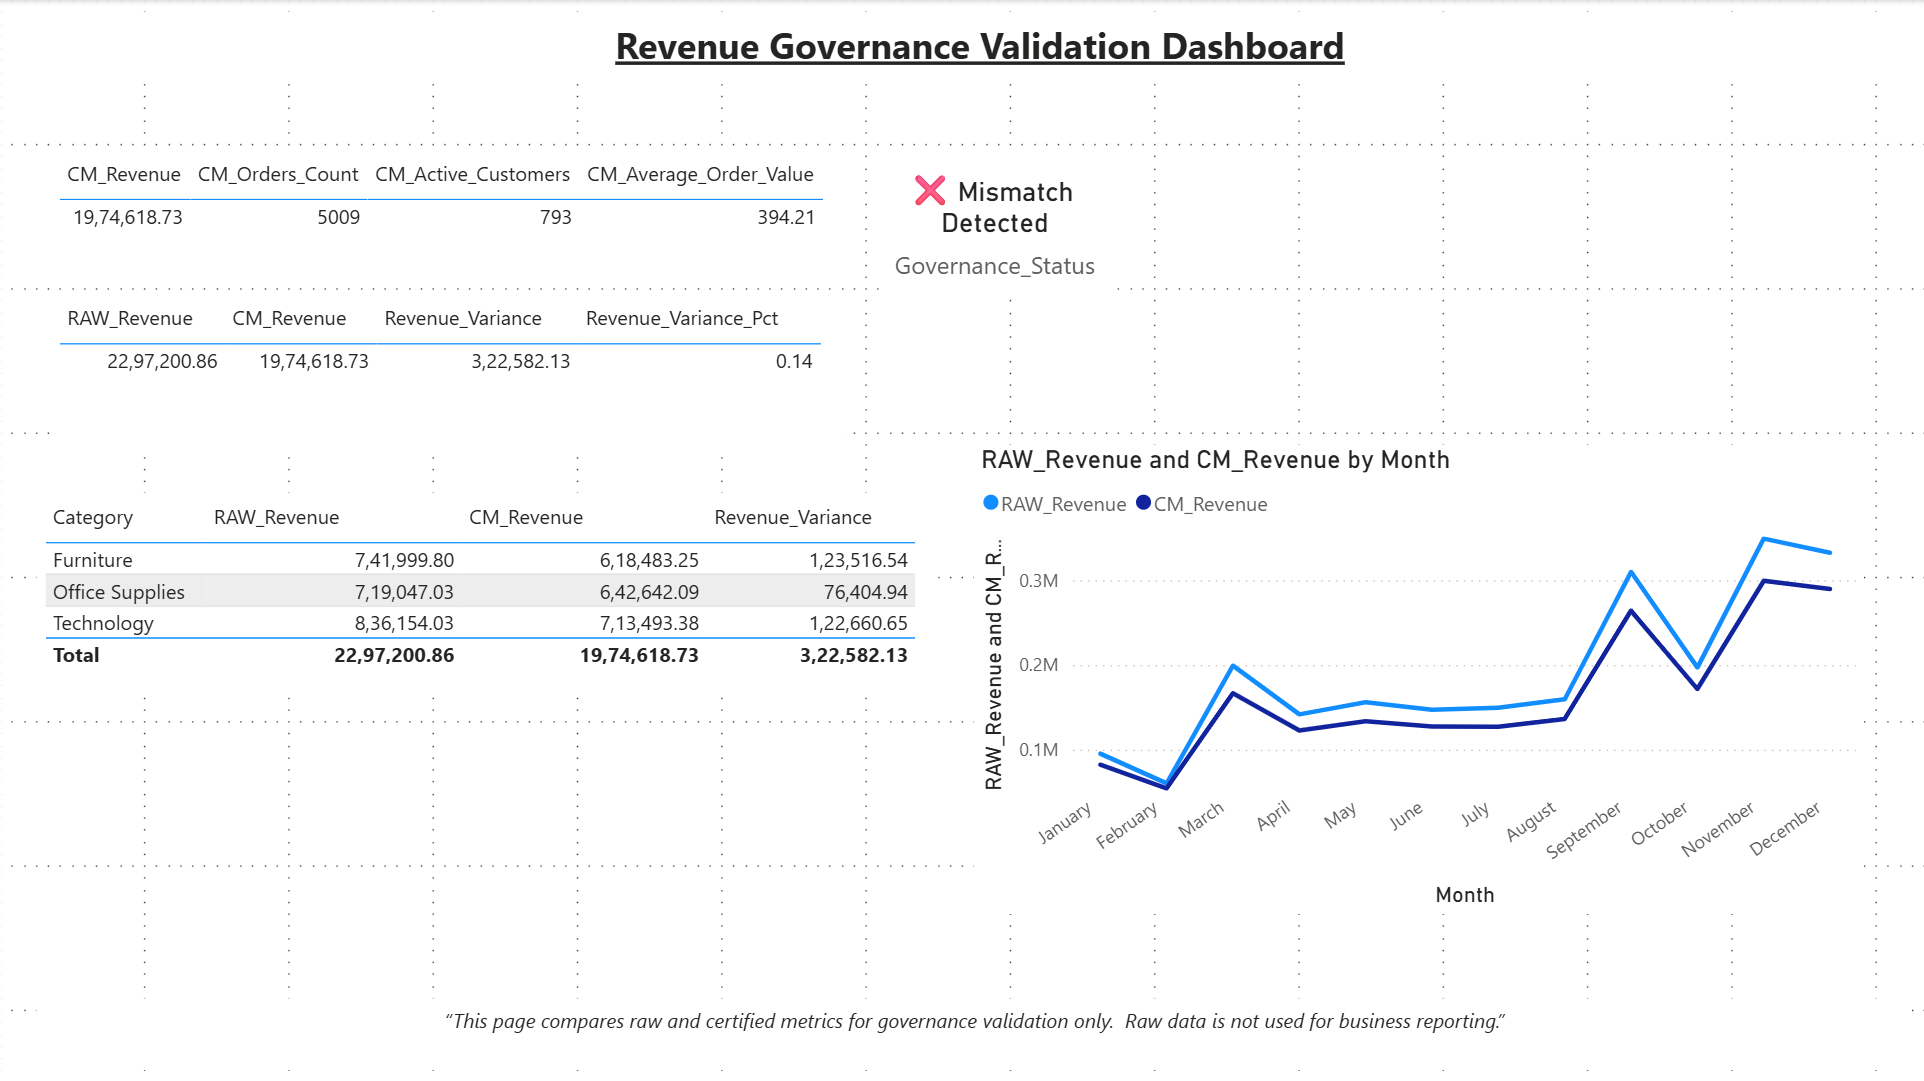

The dashboard page shown, as its layout file describes it:
{"tool":"powerbi","page":{"name":"Page 1","canvas":[1280,720],"ordinal":0},"visuals":[{"type":"tableEx","fields":{"Values":["Certified Measures.CM_Revenue","Certified Measures.CM_Orders_Count","Certified Measures.CM_Active_Customers","Certified Measures.CM_Average_Order_Value"]},"box":[33.5,99.1,528,88],"z":0},{"type":"tableEx","fields":{"Values":["Certified Measures.RAW_Revenue","Certified Measures.CM_Revenue","Certified Measures.Revenue_Variance","Certified Measures.Revenue_Variance_Pct"]},"box":[33.5,195.1,528,104],"z":1000},{"type":"card","fields":{"Values":["Certified Measures.Governance_Status"]},"box":[585.5,99.1,152,96],"z":2000},{"type":"tableEx","fields":{"Values":["dim_product_certified.Category","Certified Measures.RAW_Revenue","Certified Measures.CM_Revenue","Certified Measures.Revenue_Variance"]},"box":[24,328,600,136],"z":3000},{"type":"lineChart","fields":{"Y":["Certified Measures.RAW_Revenue","Certified Measures.CM_Revenue"],"Category":["Calendar_date.Date.Variation.Date Hierarchy.Month"]},"box":[648,296,592,312],"z":4000},{"type":"textbox","box":[32,8,1240,48],"z":5000},{"type":"textbox","box":[24,664,1248,48],"z":6000}]}

Visuals, with their boxes in screenshot pixels (x1, y1, x2, y2), scaled from the page's 1280x720 canvas onto the 1924x1081 screenshot:
tableEx - Certified Measures.CM_Revenue x Certified Measures.CM_Orders_Count: <region>50, 149, 844, 281</region>
tableEx - Certified Measures.RAW_Revenue x Certified Measures.CM_Revenue: <region>50, 293, 844, 449</region>
card - Certified Measures.Governance_Status: <region>880, 149, 1109, 293</region>
tableEx - dim_product_certified.Category x Certified Measures.RAW_Revenue: <region>36, 492, 938, 697</region>
lineChart - Certified Measures.RAW_Revenue x Certified Measures.CM_Revenue: <region>974, 444, 1864, 913</region>
textbox: <region>48, 12, 1912, 84</region>
textbox: <region>36, 997, 1912, 1069</region>
